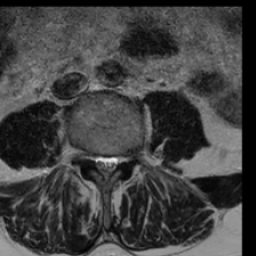CCS_normal: (102, 147, 110, 186)
LFS_stenosis: (119, 146, 130, 171)
LLS_normal: (110, 147, 119, 179)
RFS_stenosis: (84, 140, 93, 168)
RLS_normal: (93, 147, 102, 180)
